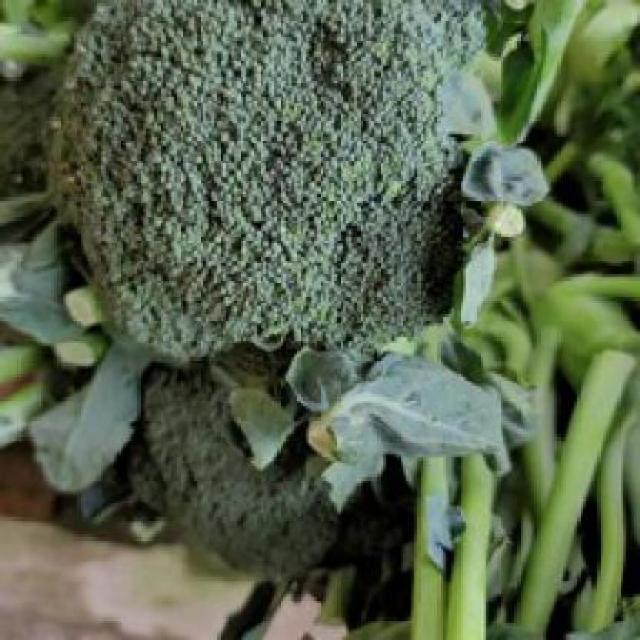broccoli: (46, 6, 503, 372), (89, 382, 436, 587)
